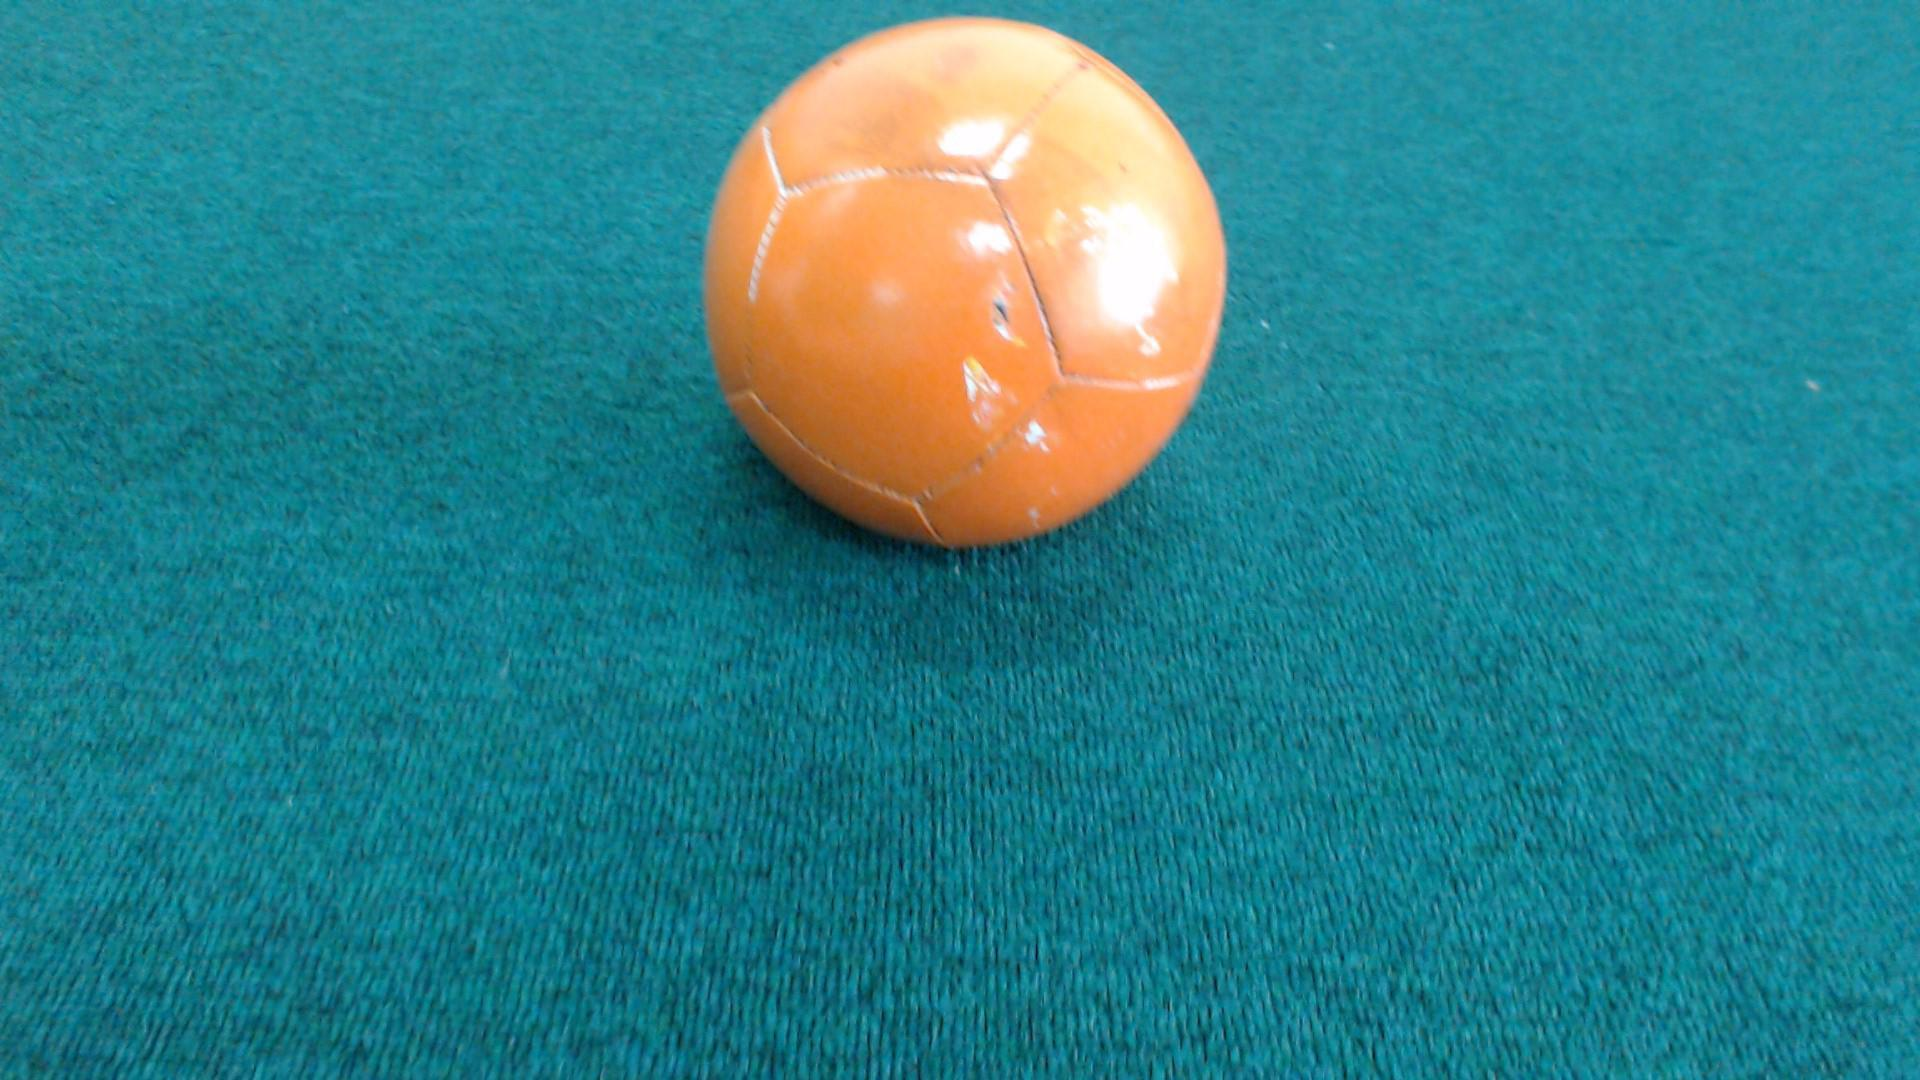bola: (657, 0, 1254, 599)
